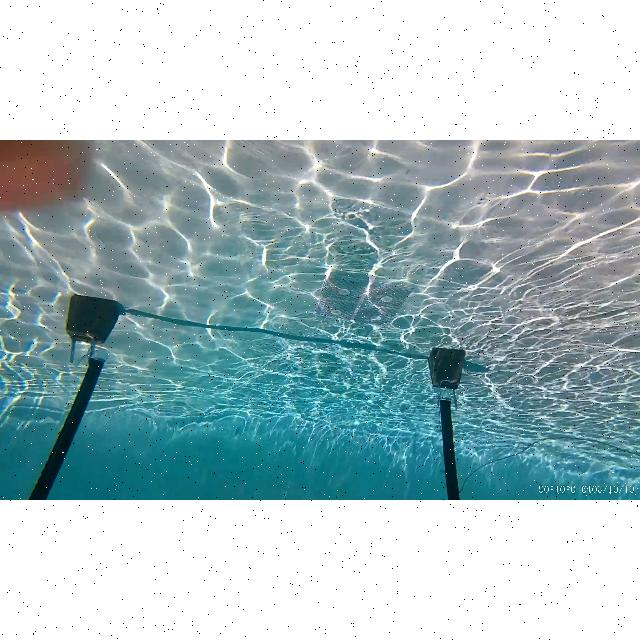prequal gate: (25, 348, 465, 500)
prequal gate leg l: (434, 386, 468, 499)
prequal gate leg r: (26, 350, 110, 500)
